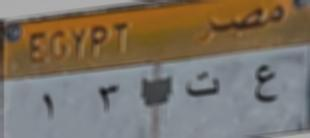1: (37, 88, 67, 122)
3: (93, 78, 128, 118)
ain: (248, 59, 280, 105)
taa: (180, 65, 225, 100)
